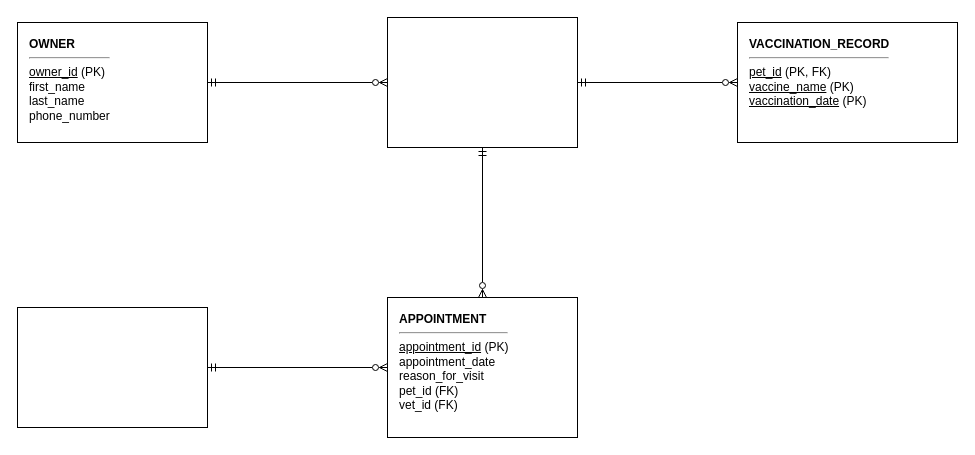
This 975x455 diagram has some shape labels left out. Each missing label, with the centre of its shape:
PET pet_id (PK) name species age owner_id (FK): (482,82)
VETERINARIAN vet_id (PK) first_name last_name specialization: (112,367)
